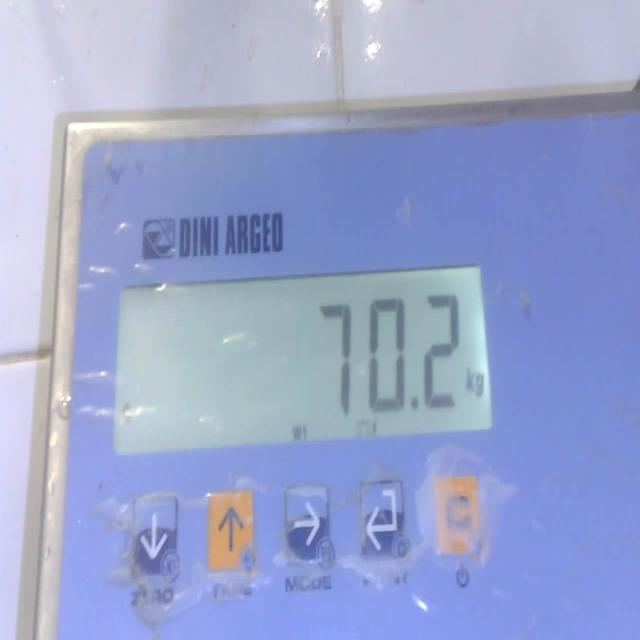.: (410, 395, 420, 414)
0: (368, 282, 406, 428)
2: (424, 295, 460, 408)
7: (320, 271, 352, 448)
